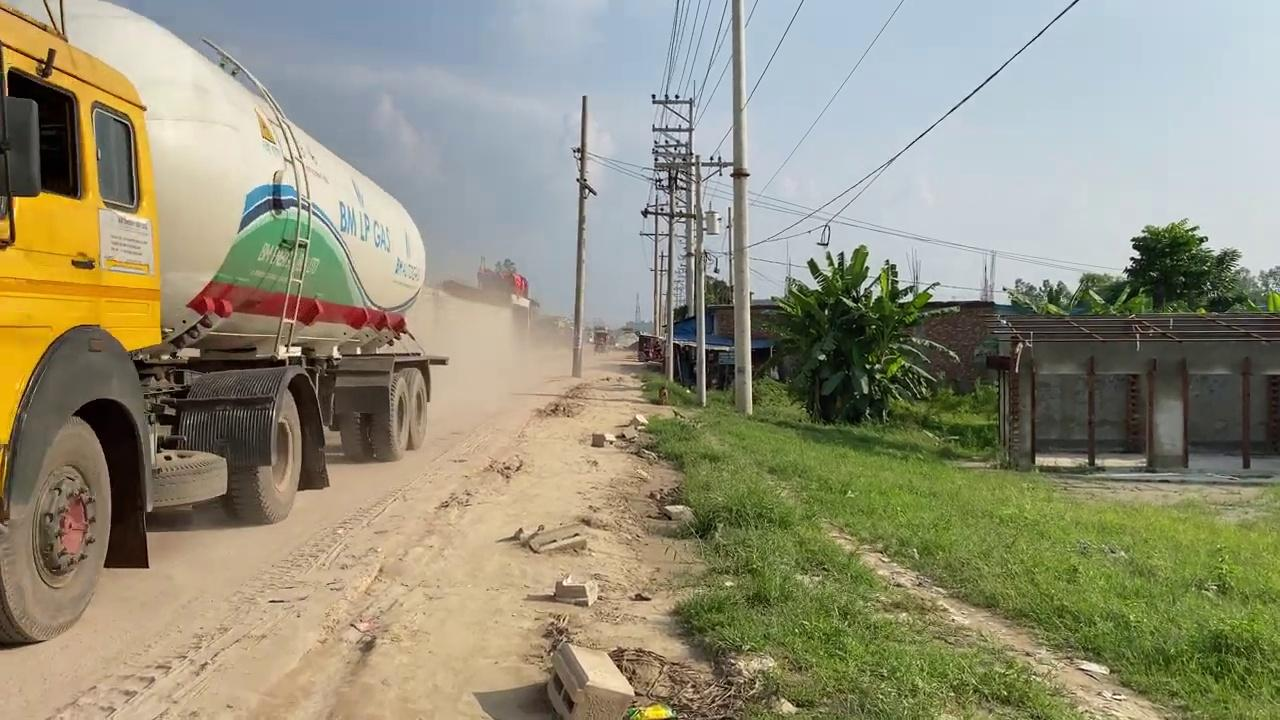Muddy road: (7, 343, 725, 718)
Obstacle: (545, 641, 635, 718)
Pole: (729, 1, 753, 414), (571, 94, 589, 377)
Traffic-sign: (755, 243, 961, 425), (1120, 217, 1242, 312)
Tree: (0, 0, 450, 646), (476, 255, 540, 346)
Upstairs: (986, 312, 1279, 472)
